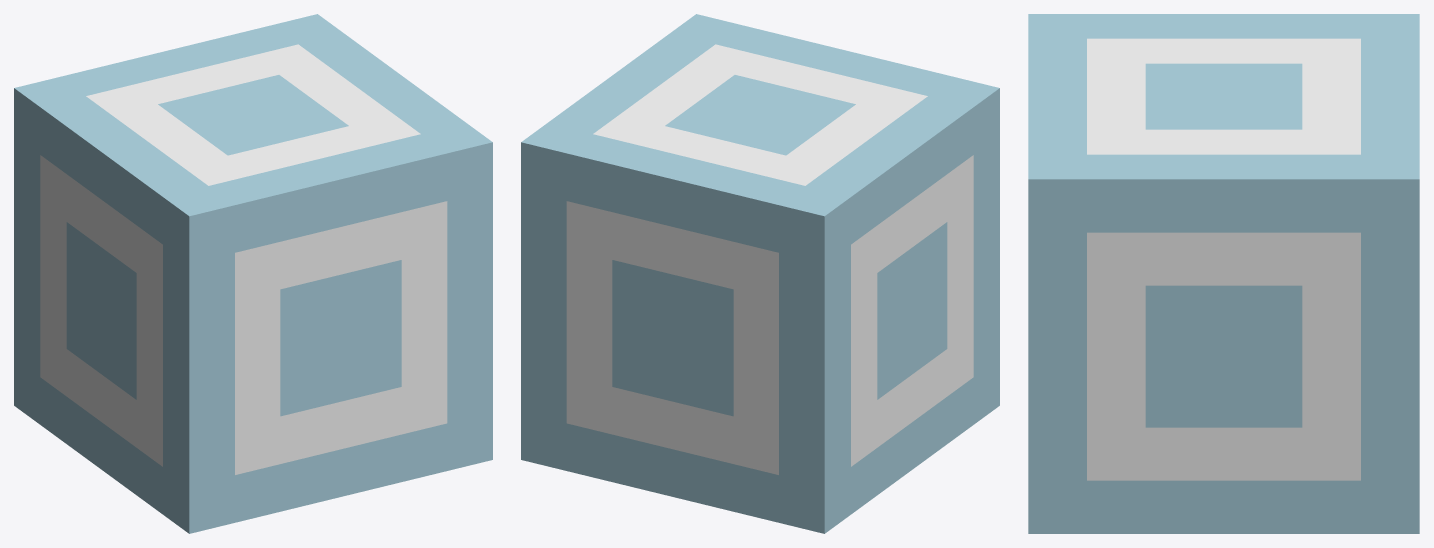
Rendered from Aura.fbx.
3 views of the same model, side by side, from view 1: azimuth 30°, elevation 25°; view 2: azimuth 150°, elevation 25°; view 3: azimuth 270°, elevation 25° (orthographic). The views are drawn at different scales.
Parts seen in each view (by area): view 1: Aura_cube2_Mesh; view 2: Aura_cube2_Mesh; view 3: Aura_cube2_Mesh.
Part boxes in pixels (x1=…): Aura_cube2_Mesh: x1=14, y1=14, x2=492, y2=533; Aura_cube2_Mesh: x1=521, y1=14, x2=999, y2=533; Aura_cube2_Mesh: x1=1028, y1=14, x2=1419, y2=533.
Size of the model in its own units: 20 by 20 by 20.
1 material, 1 textured.
